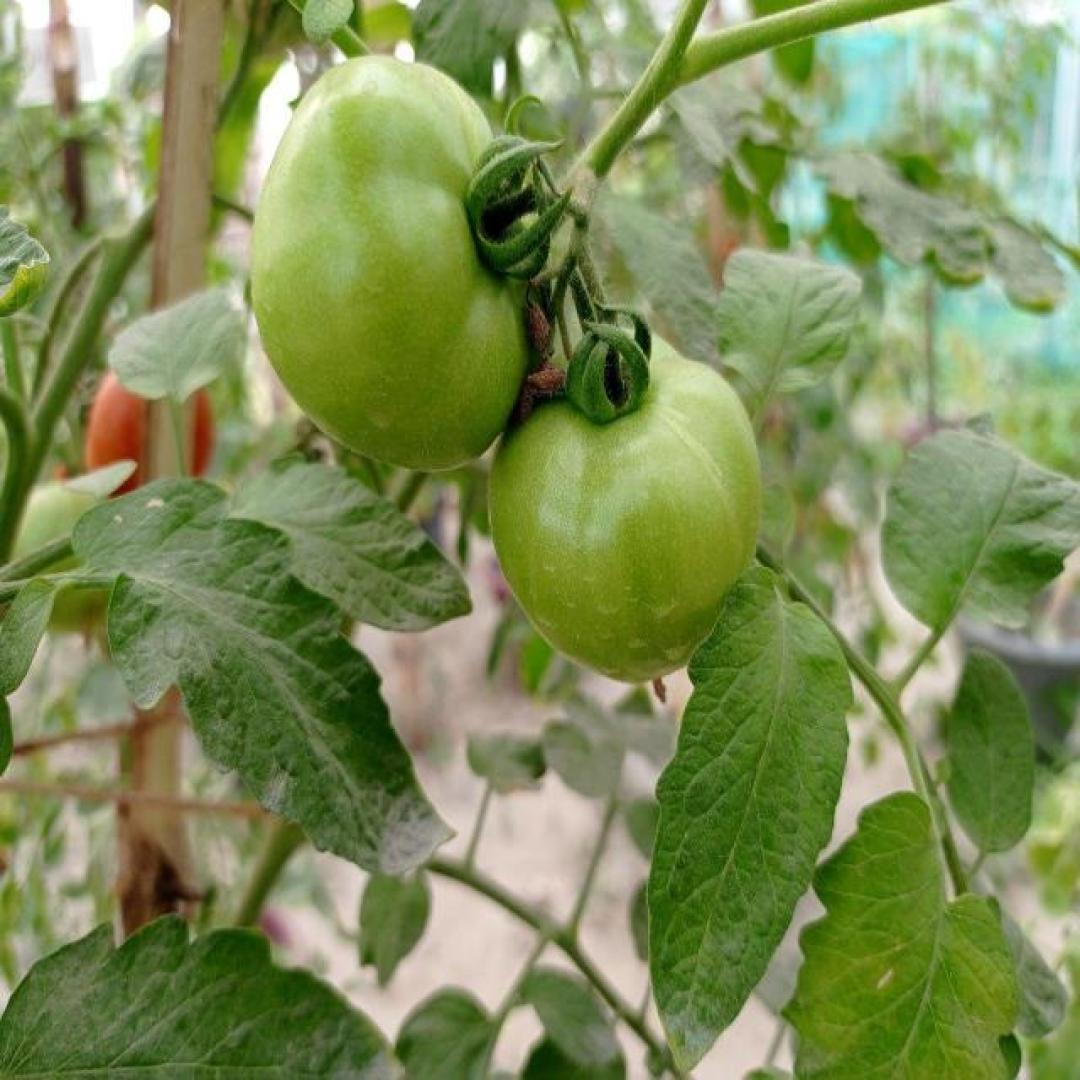mentah: (243, 52, 547, 468), (481, 324, 761, 683)
